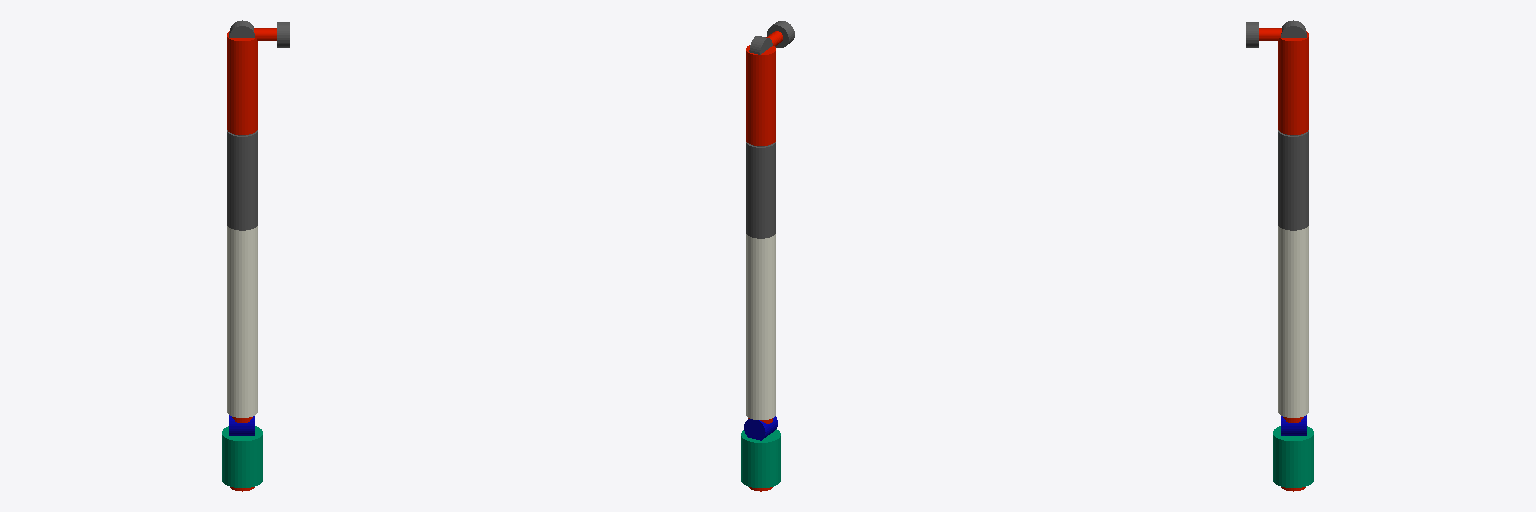
robot.urdf — prosthetic:
<?xml version="0.0" ?>
<robot name="prosthetic" >



<material name="scarlet">
    <color rgba="0.89 0.13 0.0 1"/>
</material>
<material name="grey">
    <color rgba="0.4 0.4 0.4 1.0"/>
</material>
 <material name="silver">
    <color rgba="0.913725490196 0.913725490196 0.847058823529 1.0"/>
  </material>

 

  <link name="left_jlink0">
    <inertial>
      <origin rpy="0 0 0" xyz="0 0 0"/>
       <mass value=".01"/>
       <inertia ixx="0" ixy="0" ixz="0" iyy="0" iyz="0" izz="0"/>
    </inertial>
    <visual>
      <origin rpy="1.5707  0 0" xyz="0 0 0"/>
      <geometry>
        <cylinder radius="0.025" length="0.025"/>
      </geometry>
       <material name="grey"/>
    </visual>
    <collision>
      <origin rpy="1.5707 0 0" xyz="0 0 0"/>
      <geometry>
        <cylinder radius="0.025" length="0.025"/>
      </geometry>
    </collision>
  </link>

  <link name="left_link1">
    <inertial>
      <origin rpy="0 0 0" xyz="0 0 0"/>
       <mass value=".000000001"/>
       <inertia ixx="0" ixy="0" ixz="0" iyy="0" iyz="0" izz="0"/>
    </inertial>
    <visual>
      <origin rpy="1.5707 0 0" xyz="0 0 0"/>
      <geometry>
       <cylinder radius="0.0125" length="0.08"/>
       <!-- <box size = "0.025 0.08 0.025"/> -->
      </geometry>
       <material name="scarlet"/> 
    </visual>
    <collision>
      <origin rpy="1.5707 0 0" xyz="0 0 0"/>
      <geometry>
       <cylinder radius="0.0125" length="0.08"/>
      </geometry>
    </collision>
  </link>

  <joint name="left_joint1f" type="revolute"> 
    <parent link="left_jlink0"/>
    <child link="left_link1"/>
    <origin rpy="0 0 0" xyz="0 0.04 0.0"/>  
    <axis xyz="0 1 0"/>
    <limit lower="-3.1415" upper="3.1415" effort="1.4" velocity="0.25"/>
  </joint>

  <link name="left_jlink1">
    <inertial>
      <origin rpy="0 0 0" xyz="0 0 0"/>
       <mass value=".01"/>
       <inertia ixx="0" ixy="0" ixz="0" iyy="0" iyz="0" izz="0"/>
    </inertial>
    <visual>
      <origin rpy="0 1.5707 0" xyz="0 0 0"/>
      <geometry>
        <cylinder radius="0.025" length="0.025"/>
      </geometry>
       <material name="grey"/>
    </visual>
    <collision>
      <origin rpy="0 1.5707 0" xyz="0 0 0"/>
      <geometry>
        <cylinder radius="0.025" length="0.025"/>
      </geometry>
    </collision>
</link>

  <joint name="left_joint1" type="revolute">
    <parent link="left_link1"/>
    <child link="left_jlink1"/>
    <origin rpy="0 0 0" xyz="0 0.04 0"/> 
    <axis xyz="1 0 0"/>
    <limit lower="-3.1415" upper="3.1415" effort="1.4" velocity="0.25"/>  
  </joint>

  <link name="left_link2">
    <inertial>
      <origin rpy="0 0 0" xyz="0 0 0"/>
       <mass value=".000000001"/>
       <inertia ixx="0" ixy="0" ixz="0" iyy="0" iyz="0" izz="0"/>
    </inertial>
    <visual>
      <origin rpy="0 0 0" xyz="0 0 0"/>
      <geometry>
       <cylinder radius="0.03" length="0.2"/>
      </geometry>
       <material name="scarlet"/> 
    </visual>
    <collision>
      <origin rpy="0 0 0" xyz="0 0 0"/>
      <geometry>
       <cylinder radius="0.03" length="0.2"/>
      </geometry>
    </collision>
</link>

<joint name="left_joint2f" type="fixed">
    <parent link="left_jlink1"/>
    <child link="left_link2"/>
    <origin rpy="0 0 0" xyz="0 0  -0.1"/> 
     
</joint>

<link name="left_jlink2">
    <inertial>
      <origin rpy="0 0 0" xyz="0 0 0"/>
       <mass value=".01"/>
       <inertia ixx="0" ixy="0" ixz="0" iyy="0" iyz="0" izz="0"/>
    </inertial>
    <visual>
      <origin rpy="0 0 0" xyz="0 0 0"/>
      <geometry>
        <cylinder radius="0.025" length="0.025"/>
      </geometry>
       <material name="grey"/>
    </visual>
    <collision>
      <origin rpy="0 0 0" xyz="0 0 0"/>
      <geometry>
        <cylinder radius="0.025" length="0.025"/>
      </geometry>
    </collision>
</link>

<joint name="left_joint2" type="fixed">
    <parent link="left_link2"/>
    <child link="left_jlink2"/>
    <origin rpy="0 0 0" xyz="0 0 -0.1"/> 
     
  </joint>

  <link name="left_link3">
    <inertial>
      <origin rpy="0 0 0" xyz="0 0 0"/>
       <mass value=".000000001"/>
       <inertia ixx="0" ixy="0" ixz="0" iyy="0" iyz="0" izz="0"/>
    </inertial>
    <visual>
      <origin rpy="0 0 0" xyz="0 0 0"/>
      <geometry>
       <cylinder radius="0.03" length="0.2"/>
      </geometry>
       <material name="grey"/> 
    </visual>
    <collision>
      <origin rpy="0 0 0" xyz="0 0 0"/>
      <geometry>
       <cylinder radius="0.03" length="0.2"/>
      </geometry>
    </collision>
</link>

<joint name="left_joint3f" type="fixed">
    <parent link="left_jlink2"/>
    <child link="left_link3"/>
    <origin rpy="0 0 0" xyz="0 0  -0.1035"/>   
</joint>

<link name="left_jlink3">
    <inertial>
      <origin rpy="0 0 0" xyz="0 0 0"/>
       <mass value=".01"/>
       <inertia ixx="0" ixy="0" ixz="0" iyy="0" iyz="0" izz="0"/>
    </inertial>
    <visual>
      <origin rpy="0 1.5707 0" xyz="0 0 0"/>
      <geometry>
        <cylinder radius="0.025" length="0.025"/>
      </geometry>
       <material name="scarlet"/>
    </visual>
    <collision>
      <origin rpy="0 1.5707 0" xyz="0 0 0"/>
      <geometry>
        <cylinder radius="0.025" length="0.025"/>
      </geometry>
    </collision>
</link>

<joint name="left_joint3" type="revolute">
    <parent link="left_link3"/>
    <child link="left_jlink3"/>
    <origin rpy="0 0 0" xyz="0 0.0 -0.1"/> 
    <axis xyz="1 0 0"/>
    <limit lower="-3.1415" upper="3.1415" effort="1.4" velocity="0.25"/>  
  </joint>

  <link name="left_link4">
    <inertial>
      <origin rpy="0 0 0" xyz="0 0 0"/>
       <mass value=".000000001"/>
       <inertia ixx="0" ixy="0" ixz="0" iyy="0" iyz="0" izz="0"/>
    </inertial>
    <visual>
      <origin rpy="0 0 0" xyz="0 0 0"/>
      <geometry>
       <cylinder radius="0.03" length="0.4"/>
      </geometry>
       <material name="silver"/> 
    </visual>
    <collision>
      <origin rpy="0 0 0" xyz="0 0 0"/>
      <geometry>
       <cylinder radius="0.03" length="0.4"/>
      </geometry>
    </collision>
</link>

<joint name="left_joint4f" type="fixed">
    <parent link="left_jlink3"/>
    <child link="left_link4"/>
    <origin rpy="0 0 0" xyz="0 0  -0.2"/>   
</joint>

<link name="left_jlink4">
    <inertial>
      <origin rpy="0 0 0" xyz="0.107996 0.000521 -0.017765"/>
      <mass value="0.550582"/>
      <inertia ixx="0.000476" ixy="-2.9e-05" ixz="0.001403" iyy="0.009564" iyz="-1.5e-05" izz="-9e-06"/>
    </inertial>
    <visual>
      <origin rpy="0 0 0 " xyz="0 0 0"/>
      <geometry>
        <cylinder radius="0.025" length="0.025"/>
      </geometry>
      <material name="scarlet"/> 
    </visual>
    <collision>
      <origin rpy="0 0 0" xyz="0 0 0"/>
      <geometry>
        <cylinder radius="0.025" length="0.025"/>
      </geometry>
    </collision>
</link>

<joint name="left_joint4" type="revolute">
    <origin rpy="0 0 0" xyz="0.0 0.0 -0.2"/>
    <parent link="left_link4"/>
    <child link="left_jlink4"/>
    <axis xyz="0 0 1"/>
    <limit effort="1.4" lower="-1.57" upper="1.57" velocity="10"/>
  </joint>

<link name="left_wrist">
    <inertial>
      <origin rpy="0 0 0" xyz="0.107996 0.000521 -0.017765"/>
      <mass value="0.550582"/>
      <inertia ixx="0.000476" ixy="-2.9e-05" ixz="0.001403" iyy="0.009564" iyz="-1.5e-05" izz="-9e-06"/>
    </inertial>
    <visual>
      <origin rpy="0 1.5707 1.5707 " xyz="0 0 0"/>
      <geometry>
        <cylinder radius="0.025" length="0.05"/>
      </geometry>
      <material name="blue">
        <color rgba="0.05 0.05 0.75 0.9"/>
      </material>
    </visual>
    <collision>
      <origin rpy="0 1.5707 1.5707" xyz="0 0 0"/>
      <geometry>
        <cylinder radius="0.025" length="0.05"/>
      </geometry>
    </collision>
  </link>
  <joint name="left_wrist_joint" type="revolute">
    <origin rpy="0 1.5707 0" xyz="0.0 0.0 -0.025"/>
    <parent link="left_jlink4"/>
    <child link="left_wrist"/>
    <axis xyz="0 1 0"/>
    <limit effort="1.4" lower="-1.57" upper="1.57" velocity="10"/>
  </joint>

  <link name="left_gripper_base">
    <inertial>
      <origin rpy="0 0 0" xyz="0 0 0"/>
      <mass value="0.2"/>
      <inertia ixx="0.0001" ixy="0" ixz="0" iyy="0.0001" iyz="0" izz="0.0001"/>
    </inertial>
    <visual>
      <origin rpy="0 1.5707 0" xyz="0 0 0"/>
      <geometry> 
        <cylinder radius="0.04" length="0.1"/>
      </geometry>
      <material name="Light_Grey"/>
    </visual>
    <collision>
      <origin rpy="0 1.5707 0" xyz="0 0 0"/>
      <geometry> 
       <cylinder radius="0.04" length="0.1"/>
      </geometry>
      <material name="Light_Grey"/>
    </collision>
  </link>

  <joint name="gripper_left_wrist_joint" type="revolute">
    <origin rpy="0 0 0" xyz="0.07 0 0"/>
    <parent link="left_wrist"/>
    <child link="left_gripper_base"/>
    <axis xyz="1 0 0"/>
    <limit effort="1.4" lower="-1.57" upper="1.57" velocity="10"/>
  </joint>

  <link name="left_gripper_ee">
    <inertial>
      <origin rpy="0 0 0" xyz="0 0 0"/>
      <mass value="0.2"/>
      <inertia ixx="0.0001" ixy="0" ixz="0" iyy="0.0001" iyz="0" izz="0.0001"/>
    </inertial>
    <visual>
      <origin rpy="0 1.5707 0" xyz="0 0 0"/>
      <geometry>        
       <cylinder radius="0.025" length="0.025"/>
      </geometry>
      <material name="scarlet"/>
    </visual>
    <collision>
      <origin rpy="0 1.5707 0" xyz="0 0 0"/>
      <geometry>
       <cylinder radius="0.025" length="0.025"/>
      </geometry> 
    </collision>
  </link>
  <joint name="left_gripper_baseee_to_gripper_base" type="fixed">
    <origin rpy="0 0 0" xyz="0.05125 0.0 0"/>
    <parent link="left_gripper_base"/>
    <child link="left_gripper_ee"/>
  </joint>

   



  


</robot>

--- Render facts (derived) ---
The picture shows the robot from 3 angles, left to right: view 1: azimuth 90°, elevation 25°; view 2: azimuth 150°, elevation 25°; view 3: azimuth 270°, elevation 25°; orthographic projection.
Robot: prosthetic — 12 links, 11 joints (6 revolute, 5 fixed); root link left_jlink0; default pose: all joints at 0.
Visible links, largest first — view 1: left_link4, left_link2, left_link3, left_gripper_base; view 2: left_link4, left_link2, left_link3, left_gripper_base, left_wrist; view 3: left_link4, left_link2, left_link3, left_gripper_base.
Link boxes in pixels (x1=…): left_link4: x1=227, y1=226, x2=257, y2=417; left_link2: x1=227, y1=31, x2=257, y2=134; left_link3: x1=227, y1=130, x2=257, y2=230; left_gripper_base: x1=222, y1=426, x2=262, y2=487; left_link4: x1=746, y1=234, x2=775, y2=419; left_link2: x1=746, y1=45, x2=775, y2=145; left_link3: x1=746, y1=142, x2=775, y2=238; left_gripper_base: x1=741, y1=429, x2=780, y2=487; left_wrist: x1=744, y1=416, x2=777, y2=440; left_link4: x1=1278, y1=226, x2=1308, y2=417; left_link2: x1=1278, y1=31, x2=1308, y2=134; left_link3: x1=1278, y1=130, x2=1308, y2=230; left_gripper_base: x1=1273, y1=426, x2=1313, y2=487.
Bounding box of the posed robot: 0.08 × 0.1325 × 0.9873 m (x, y, z).
Geometry: primitives only (box / cylinder / sphere), no mesh files.